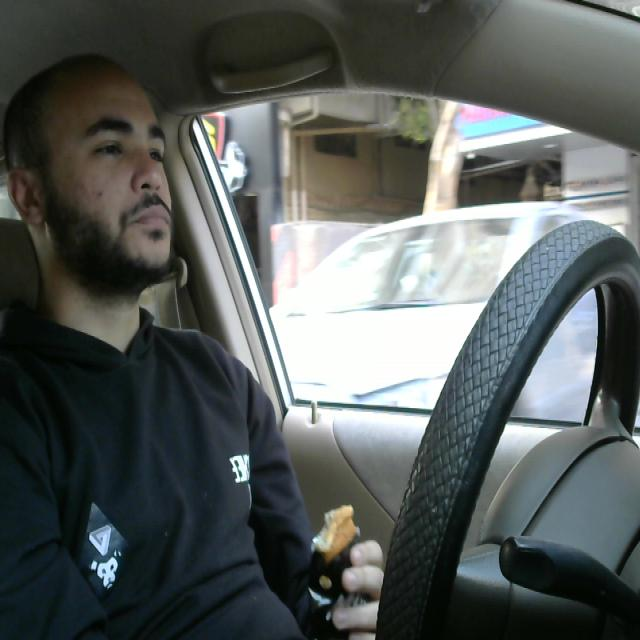eating: (299, 498, 376, 640)
